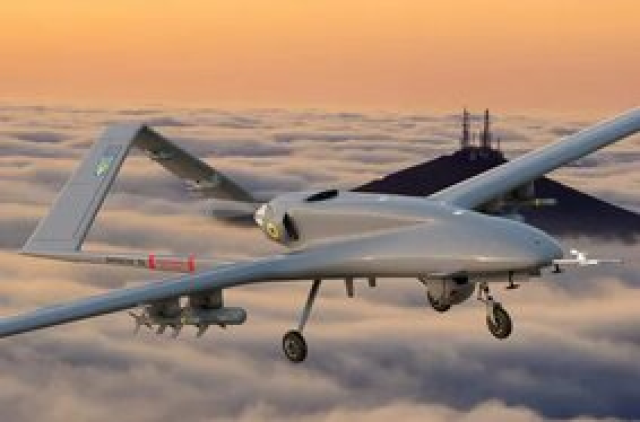military drone: (0, 103, 640, 364)
